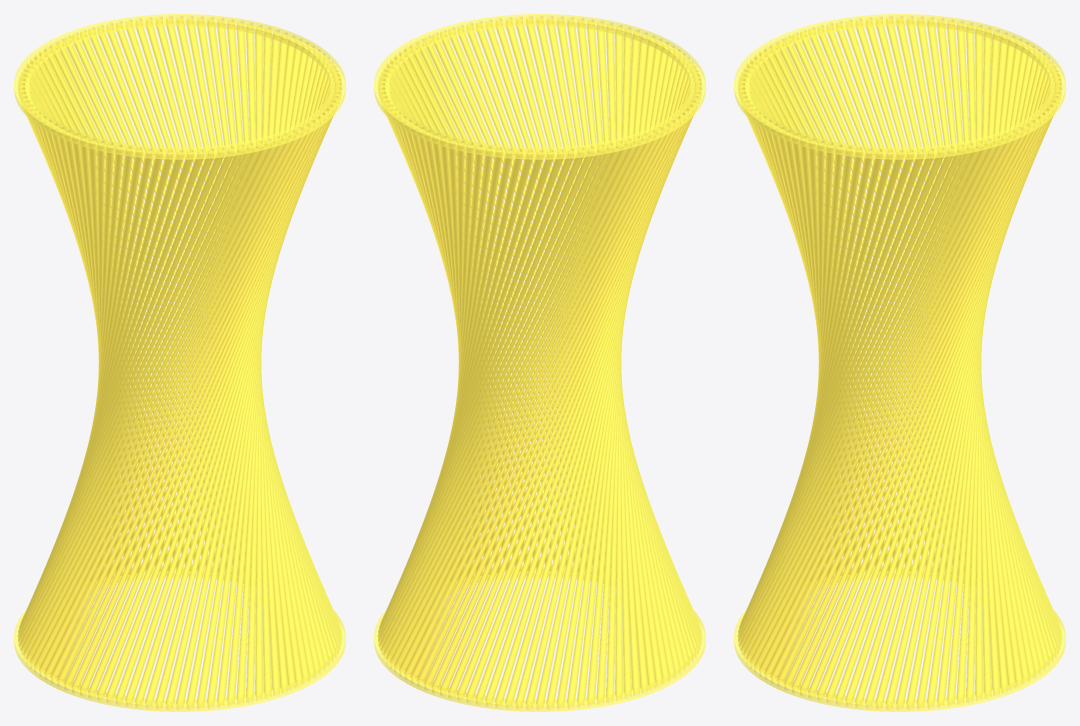
File: RingLampe.glb
The picture shows the model from 3 angles, left to right: view 1: azimuth 30°, elevation 25°; view 2: azimuth 150°, elevation 25°; view 3: azimuth 270°, elevation 25°; orthographic projection.
Parts seen in each view (by area): view 1: RingLampe; view 2: RingLampe; view 3: RingLampe.
Part boxes in pixels (x1,y1,x2,y2): RingLampe: [14, 14, 345, 711]; RingLampe: [374, 14, 705, 711]; RingLampe: [734, 14, 1065, 711].
Size of the model in its own units: 0.1099 by 0.204 by 0.1099.
